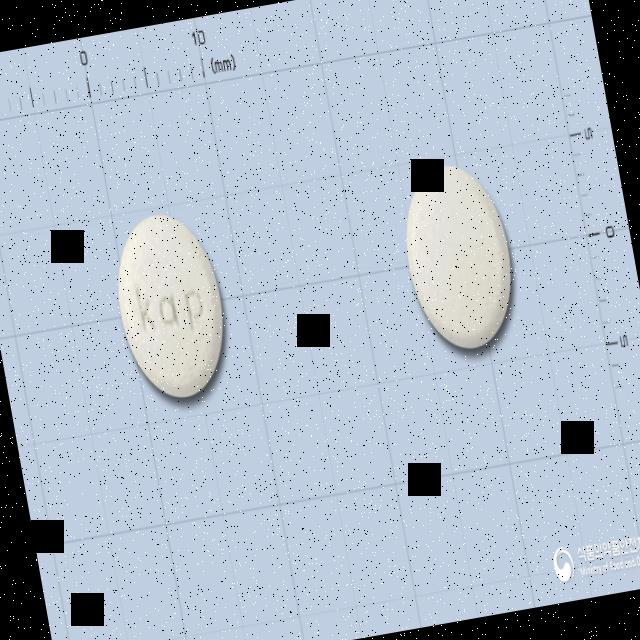Lebofacin: (103, 204, 238, 406)
